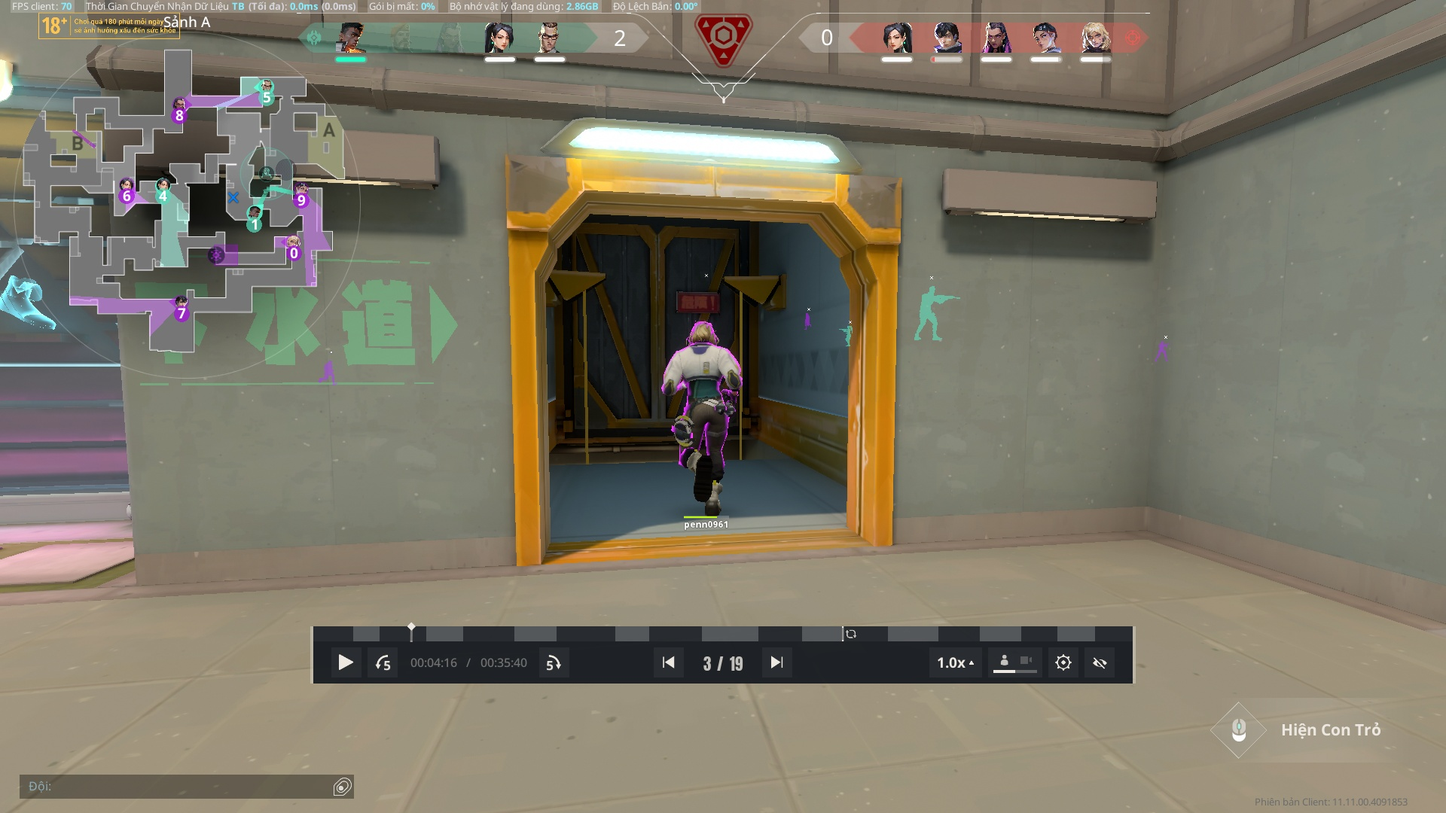body: (671, 345, 737, 412)
head: (688, 320, 717, 345)
